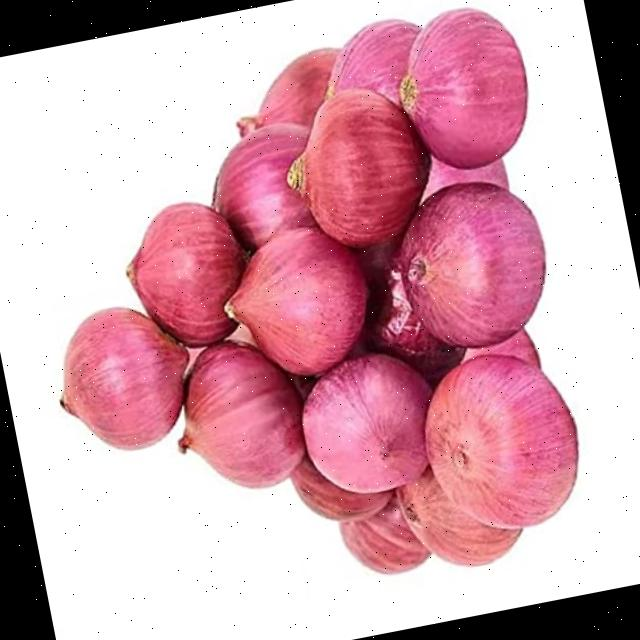Onion: (425, 354, 579, 528), (394, 180, 547, 348), (287, 85, 433, 249), (225, 226, 371, 376), (400, 7, 527, 168), (181, 338, 309, 489), (60, 308, 189, 451), (302, 352, 431, 492), (127, 202, 248, 347), (213, 122, 319, 254), (397, 466, 523, 565)
